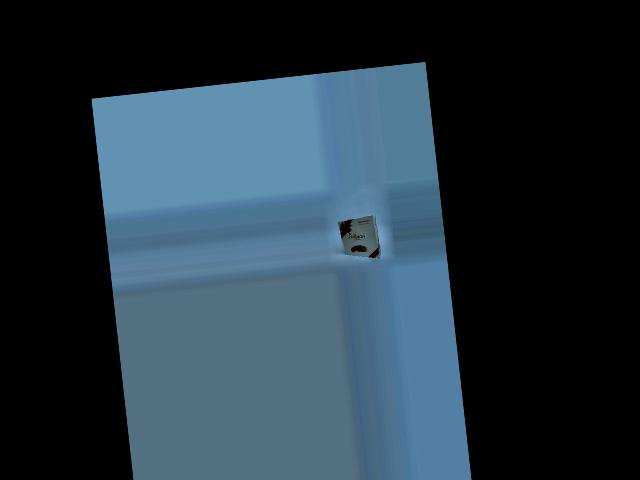chocolate: (336, 215, 389, 264)
